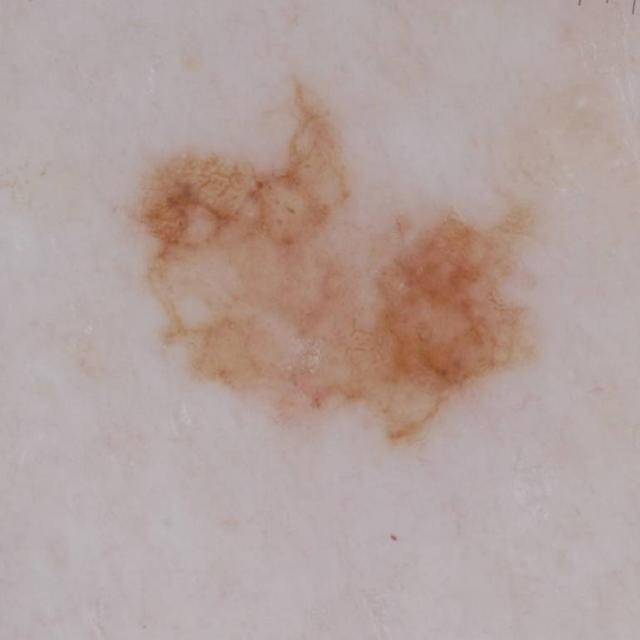Melanoma: (101, 79, 598, 467)
